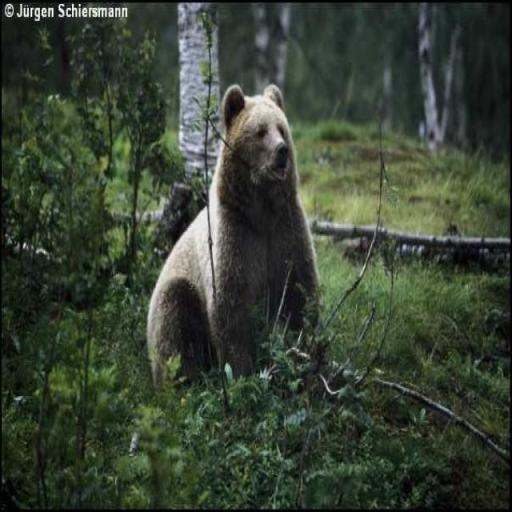Bear: (146, 81, 322, 391)
